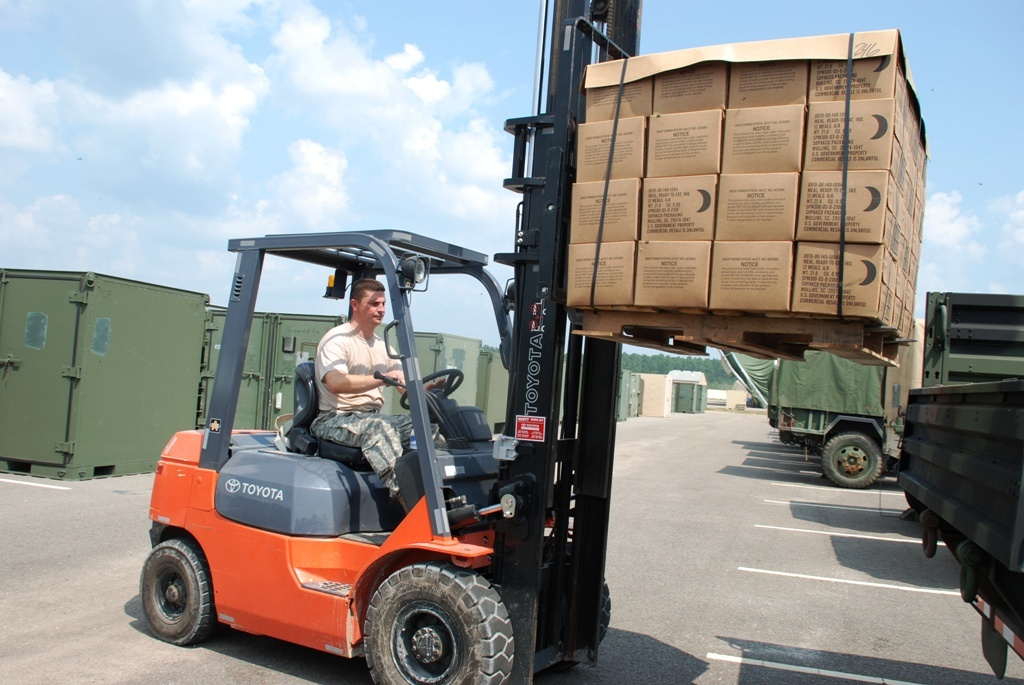Person: (309, 278, 445, 515)
